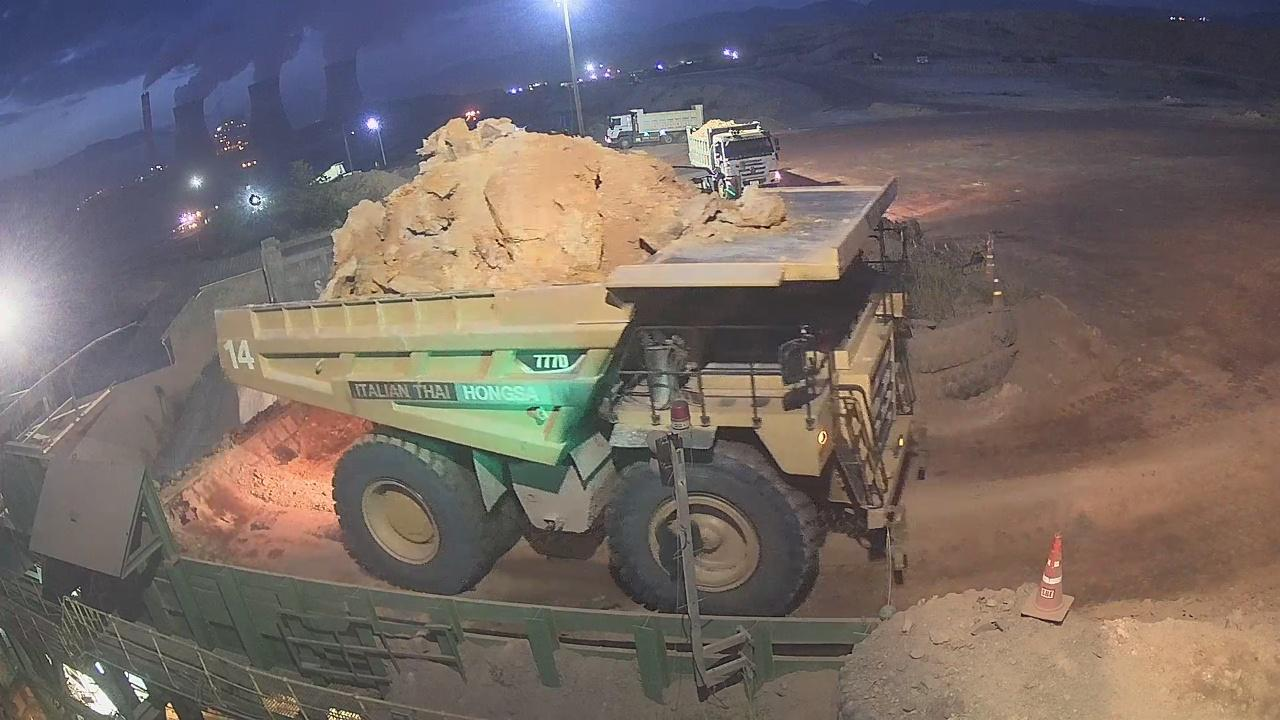company: (342, 377, 577, 410)
full_load: (298, 107, 782, 300)
mining_truck: (212, 77, 927, 618)
tail_number: (219, 329, 263, 381)
truck_size: (508, 344, 603, 378)
